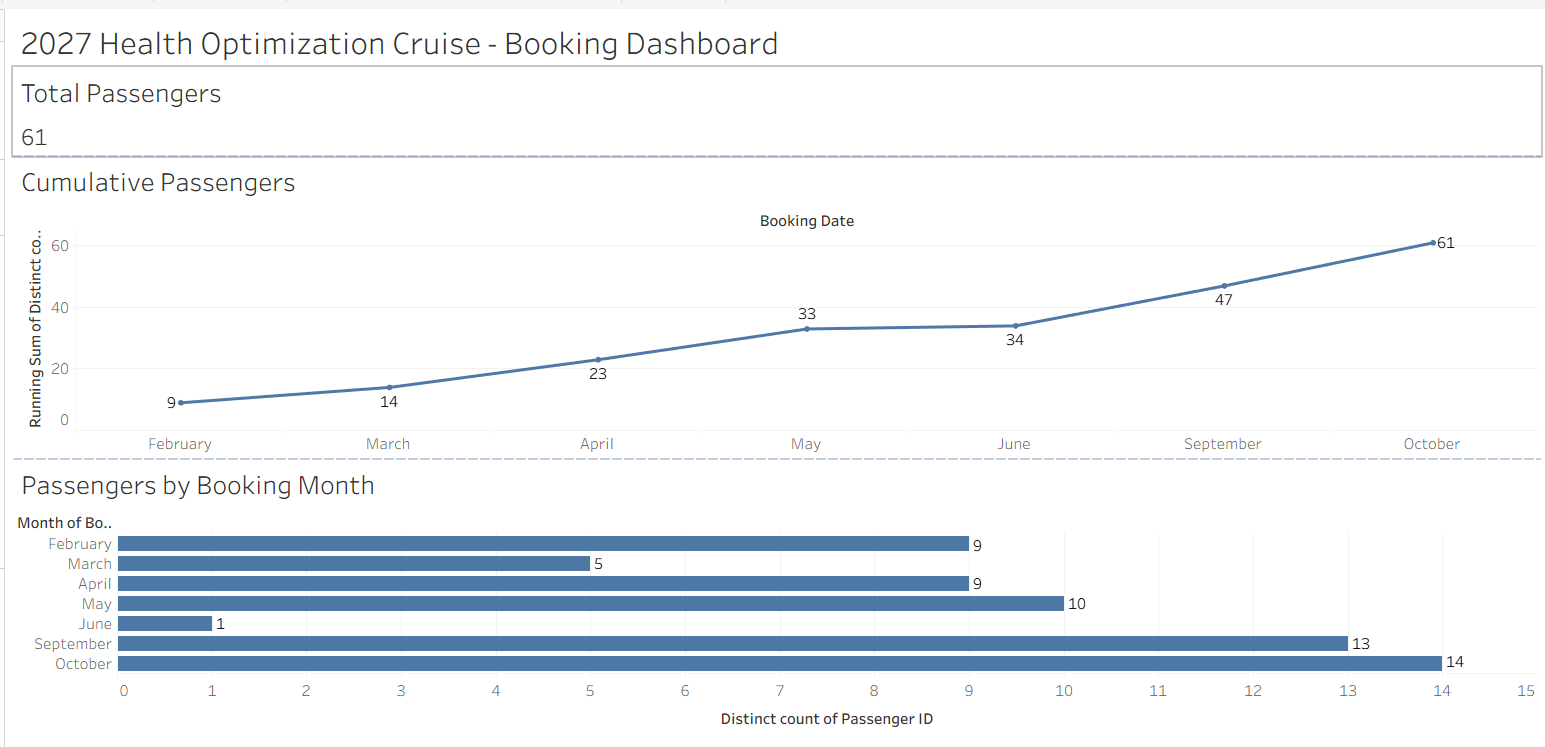

The page's visual inventory and layout, read from the dashboard file:
{"tool":"tableau","page":{"name":"Dashboard 1","canvas":[1000,1000],"units":"permille","ordinal":0},"visuals":[{"type":"title","box":[5.2,9.4,989.6,58.8]},{"type":"worksheet","title":"Total Passengers","mark":"Automatic","box":[5.2,68.2,989.6,104.9]},{"type":"worksheet","title":"Cumulative Passengers","mark":"Line","cols":["BOOKING DATE"],"box":[5.2,173.1,989.6,356.3]},{"type":"worksheet","title":"Passengers by Booking Month","mark":"Bar","rows":["BOOKING DATE"],"cols":["Passenger ID"],"box":[5.2,529.4,989.6,461.2]}]}

Visuals, with their boxes on the dashboard's canvas, which has no fixed pixel size, in thousandths of its width and height (x1, y1, x2, y2). These are canvas units, not pixel positions in the 1545x747 screenshot, which may show the page scaled, cropped or inside an application window:
title: <box>5,9,995,68</box>
"Total Passengers" worksheet: <box>5,68,995,173</box>
"Cumulative Passengers" worksheet (Line marks): <box>5,173,995,529</box>
"Passengers by Booking Month" worksheet (Bar marks): <box>5,529,995,991</box>
